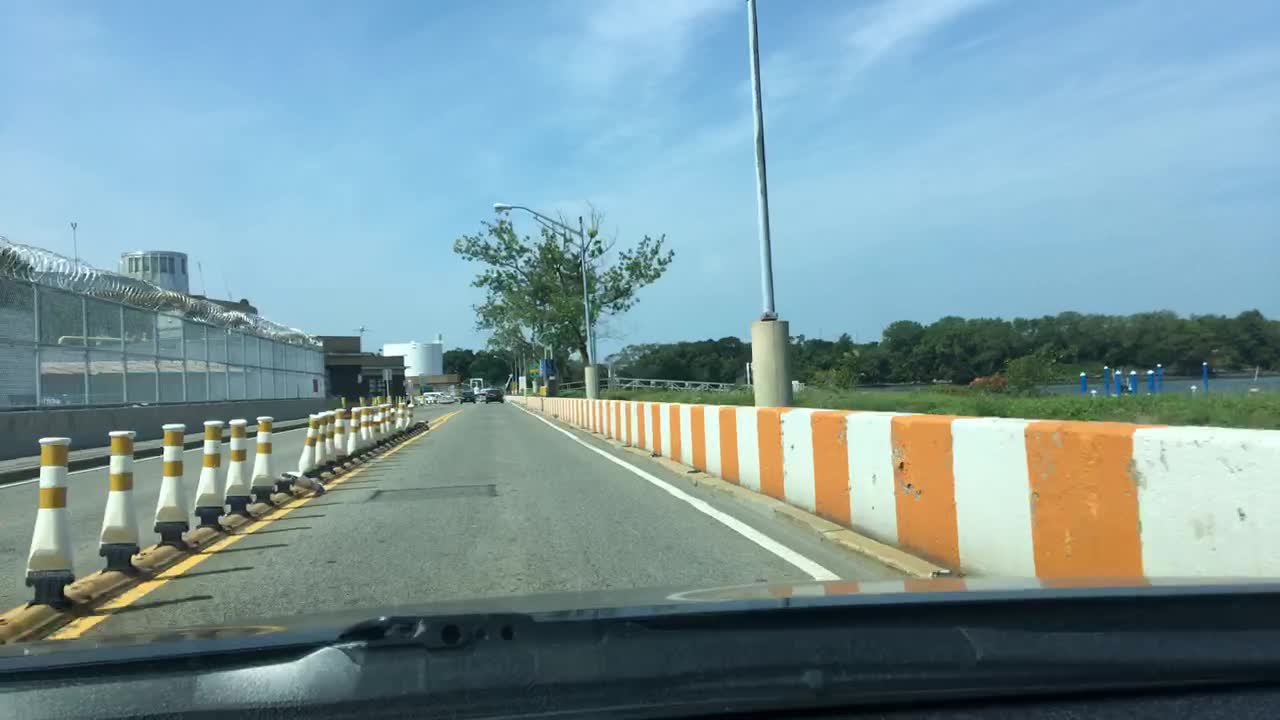car: (482, 385, 506, 404), (422, 390, 451, 402), (459, 387, 477, 404), (474, 384, 491, 394)
